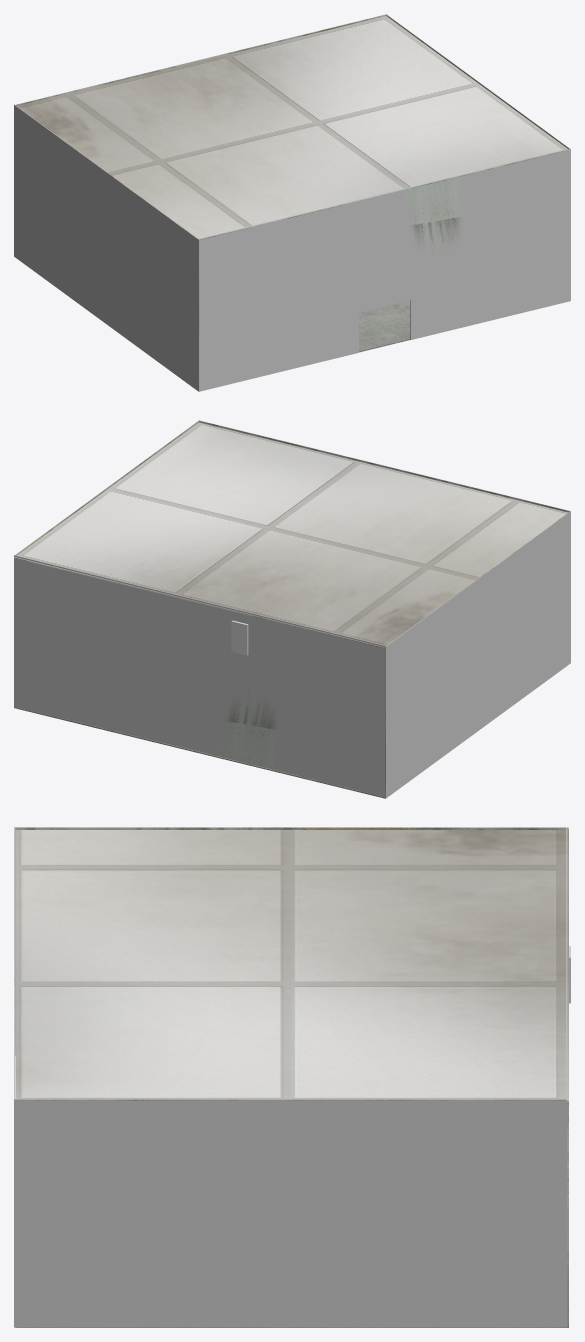
Rendered from Principal 2.fbx.
3 views of the same model, one above another, from view 1: azimuth 30°, elevation 25°; view 2: azimuth 150°, elevation 25°; view 3: azimuth 270°, elevation 25° (orthographic). The views are drawn at different scales.
Visible parts, largest first — view 1: Techo, Pared1, Pared3, Piso, Pared4, Pared2; view 2: Techo, Pared4, Pared3, Pared1, Piso, Pared2, Cube; view 3: Techo, Pared2, Pared3, Pared1, Pared4, Piso.
Part boxes in pixels (x1=…): Techo: x1=17, y1=16, x2=567, y2=239; Pared1: x1=198, y1=148, x2=570, y2=391; Pared3: x1=14, y1=104, x2=199, y2=391; Piso: x1=359, y1=300, x2=410, y2=352; Pared4: x1=14, y1=14, x2=386, y2=256; Pared2: x1=386, y1=14, x2=569, y2=148; Techo: x1=14, y1=422, x2=567, y2=648; Pared4: x1=14, y1=555, x2=386, y2=797; Pared3: x1=385, y1=511, x2=570, y2=798; Pared1: x1=198, y1=420, x2=570, y2=512; Piso: x1=14, y1=706, x2=385, y2=798; Pared2: x1=14, y1=421, x2=198, y2=706; Cube: x1=231, y1=620, x2=248, y2=655; Techo: x1=15, y1=830, x2=568, y2=1103; Pared2: x1=15, y1=1099, x2=566, y2=1327; Pared3: x1=15, y1=827, x2=568, y2=1055; Pared1: x1=14, y1=827, x2=15, y2=1327; Pared4: x1=566, y1=827, x2=567, y2=1327; Piso: x1=16, y1=1103, x2=568, y2=1327.
Size of the model in its own units: 7034 by 2749 by 6070.
